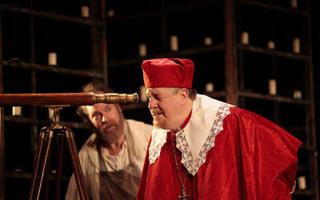person: (137, 58, 302, 200)
